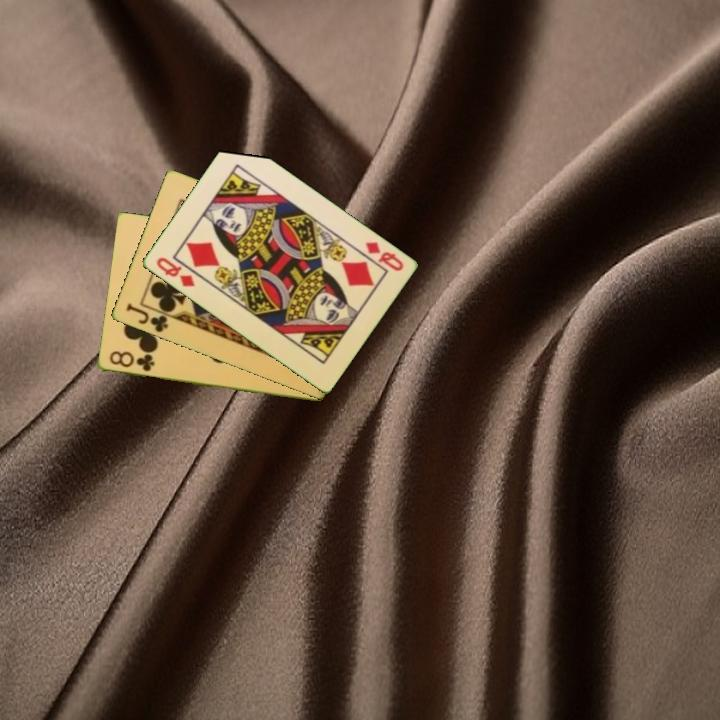8c: (105, 347, 157, 374)
Jc: (122, 300, 176, 336)
Qd: (152, 253, 198, 290), (361, 238, 406, 274)
